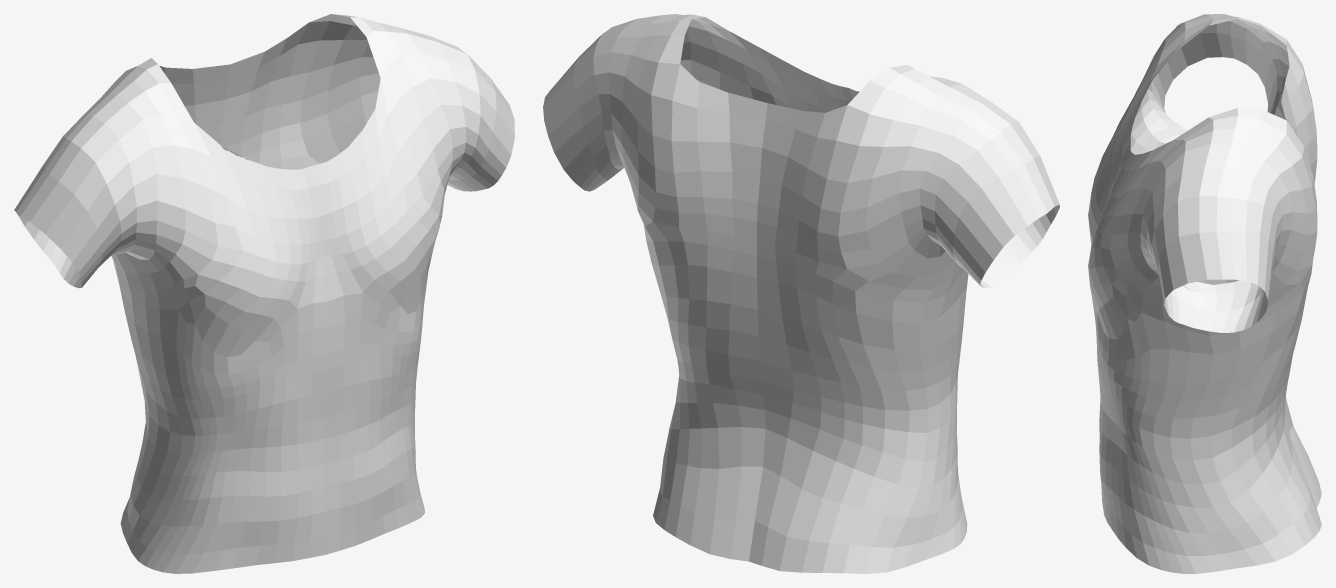
The model's file is garment.glb.
The picture shows the model from 3 angles, left to right: view 1: azimuth 30°, elevation 25°; view 2: azimuth 150°, elevation 25°; view 3: azimuth 270°, elevation 25°; orthographic projection. The views are drawn at different scales.
Parts seen in each view (by area): view 1: garment; view 2: garment; view 3: garment.
Boxes of the visible parts, x1,y1,x2,y2 form: garment: (14, 14, 514, 573); garment: (543, 14, 1059, 573); garment: (1088, 14, 1321, 573).
Size of the model in its own units: 5.64 by 5.27 by 2.5.
1 material, 1 textured.
